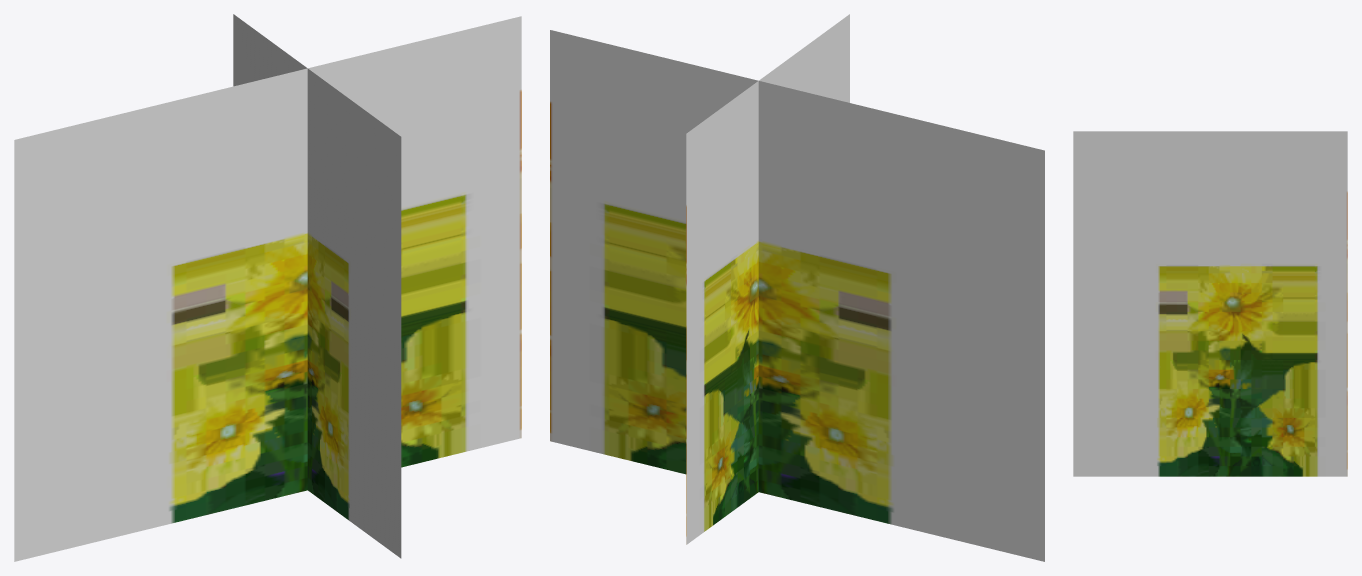
The model's file is yellow_Flower.fbx.
The picture shows the model from 3 angles, left to right: view 1: azimuth 30°, elevation 25°; view 2: azimuth 150°, elevation 25°; view 3: azimuth 270°, elevation 25°; orthographic projection. The views are drawn at different scales.
Parts seen in each view (by area): view 1: yellow_Flower; view 2: yellow_Flower; view 3: yellow_Flower.
Boxes of the visible parts, <box> form: yellow_Flower: <box>14,14,521,561</box>; yellow_Flower: <box>550,14,1044,561</box>; yellow_Flower: <box>1073,131,1347,476</box>.
Size of the model in its own units: 123 by 98.04 by 70.65.
Materials: 1 (1 with a texture image).
